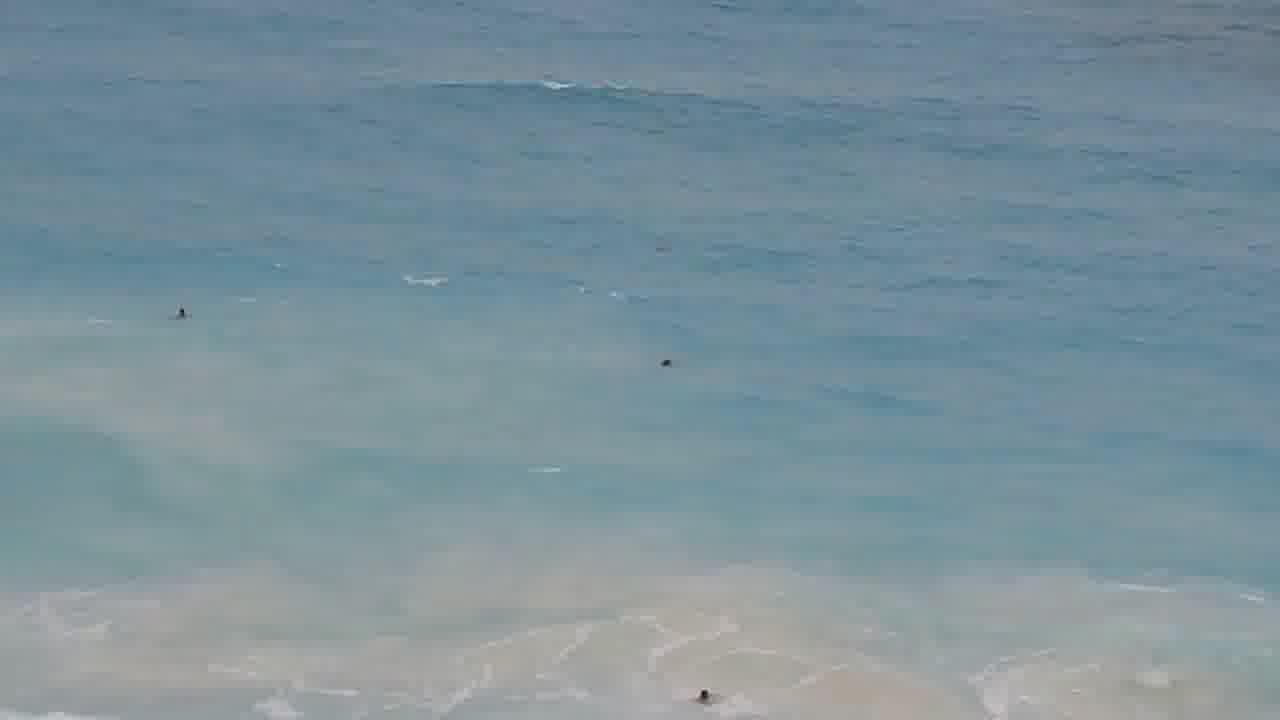swimmer: (674, 679, 730, 720), (169, 288, 200, 334), (654, 343, 681, 384)
